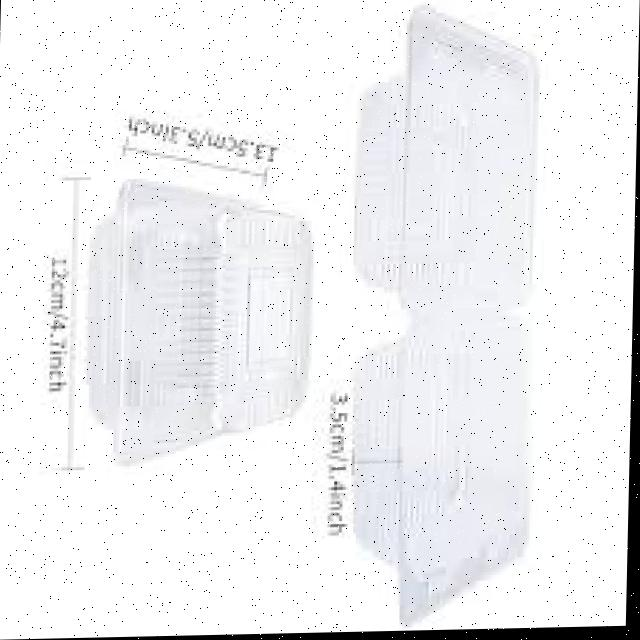disposable: (53, 145, 349, 494)
